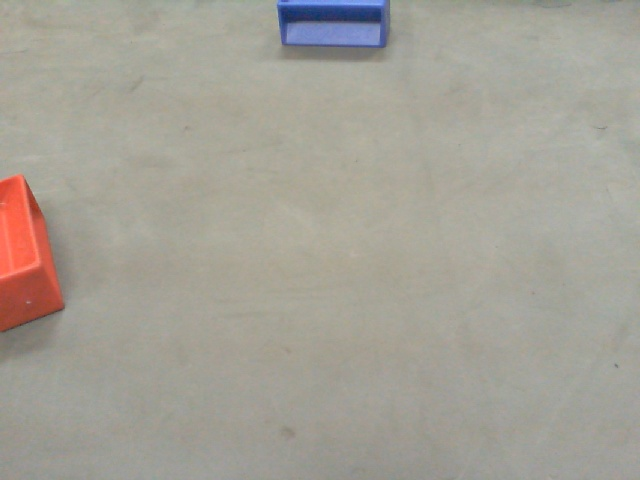BlueSample: (276, 1, 394, 50)
RedSample: (1, 173, 65, 331)
